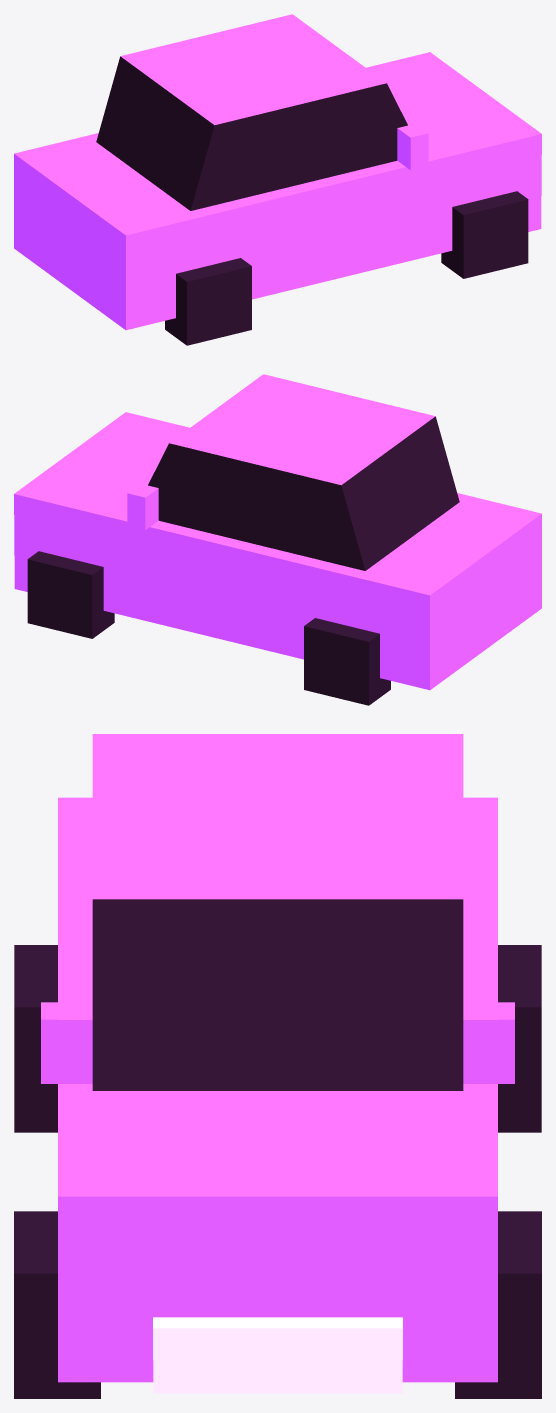
Rendered from Car_Spion_Plakat.fbx.
The picture shows the model from 3 angles, top to bottom: view 1: azimuth 30°, elevation 25°; view 2: azimuth 150°, elevation 25°; view 3: azimuth 270°, elevation 25°; orthographic projection. The views are drawn at different scales.
Parts seen in each view (by area): view 1: Car_Spion_Plat; view 2: Car_Spion_Plat; view 3: Car_Spion_Plat.
Boxes of the visible parts, x1,y1,x2,y2 form: Car_Spion_Plat: (14,14,541,345); Car_Spion_Plat: (14,374,541,705); Car_Spion_Plat: (14,734,541,1398).
Size of the model in its own units: 441 by 192 by 240.
